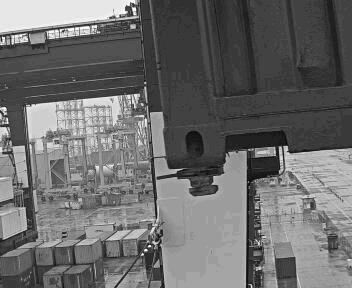twist_lock_1: (169, 161, 231, 208)
